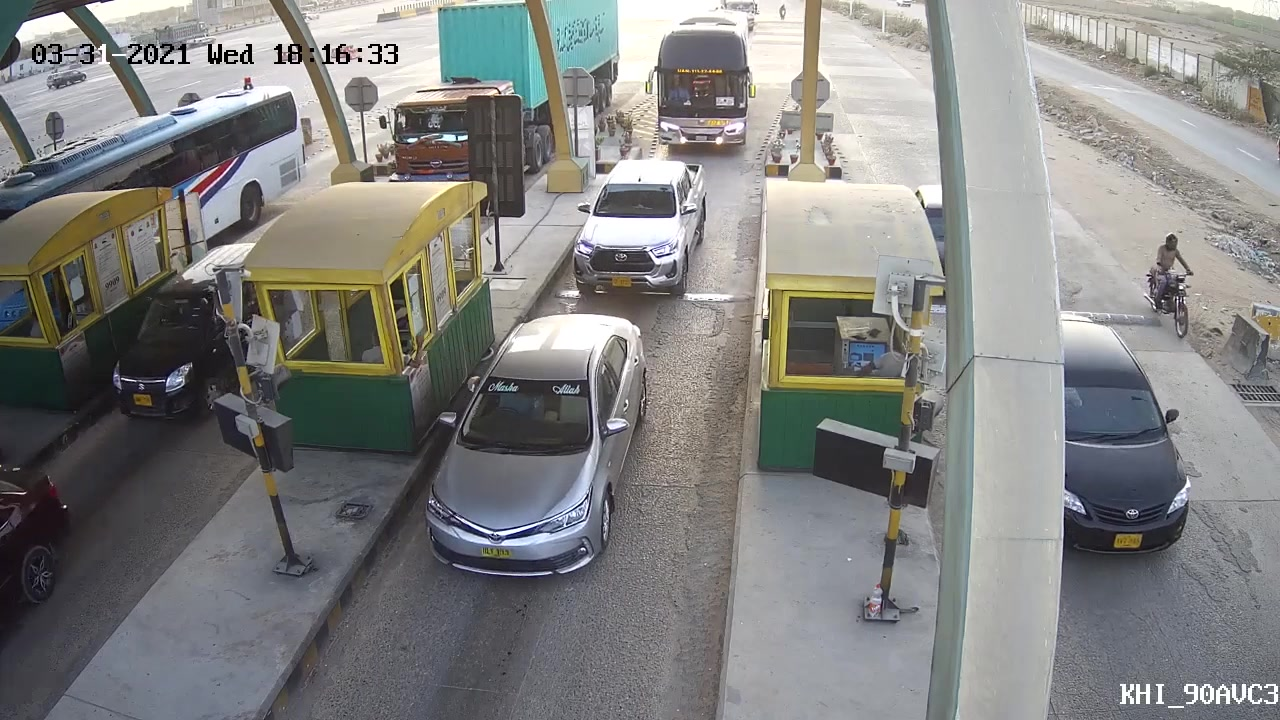F1: (416, 312, 656, 577), (554, 152, 711, 303)
